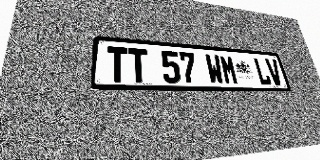5: (161, 50, 182, 84)
7: (178, 52, 199, 84)
L: (253, 58, 272, 85)
M: (219, 55, 239, 85)
T: (107, 46, 128, 83), (128, 48, 149, 83)
V: (265, 58, 284, 85)
W: (204, 54, 225, 84)
